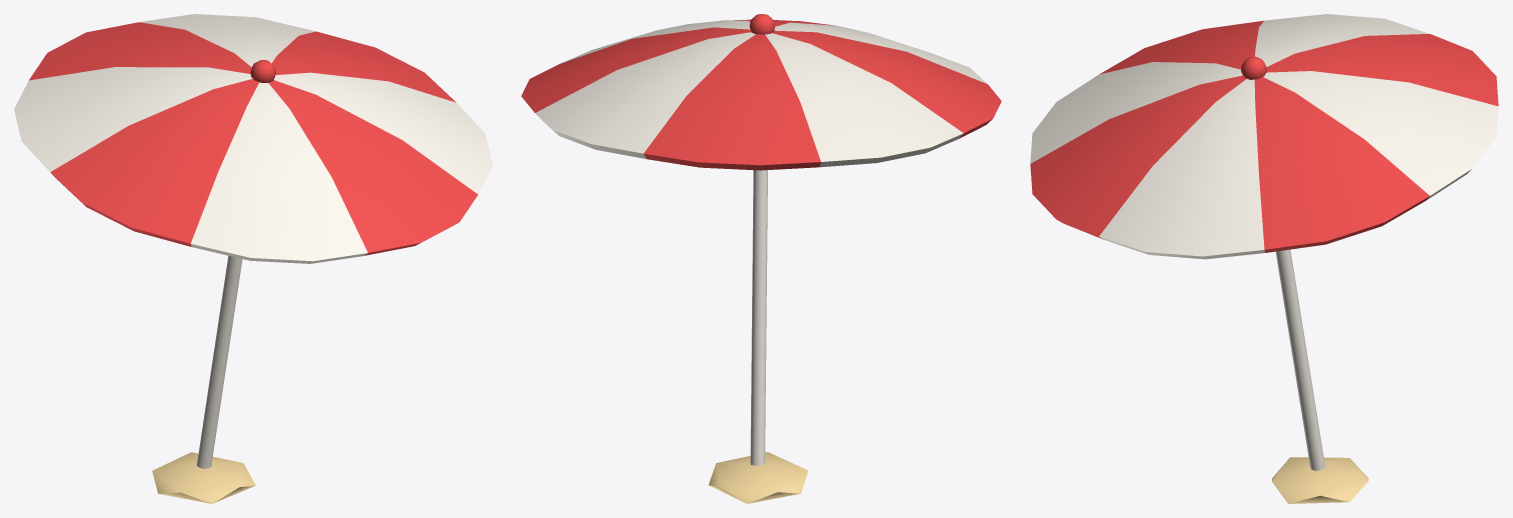
The model's file is beach_umbrella.glb.
The picture shows the model from 3 angles, left to right: view 1: azimuth 30°, elevation 25°; view 2: azimuth 150°, elevation 25°; view 3: azimuth 270°, elevation 25°; orthographic projection.
Parts seen in each view (by area): view 1: beach_umbrella; view 2: beach_umbrella; view 3: beach_umbrella.
Boxes of the visible parts, x1,y1,x2,y2 form: beach_umbrella: (14,14,492,503); beach_umbrella: (521,14,1001,503); beach_umbrella: (1030,14,1498,503).
Bounding box in the file's own units: 2.49 × 2.66 × 2.48.
